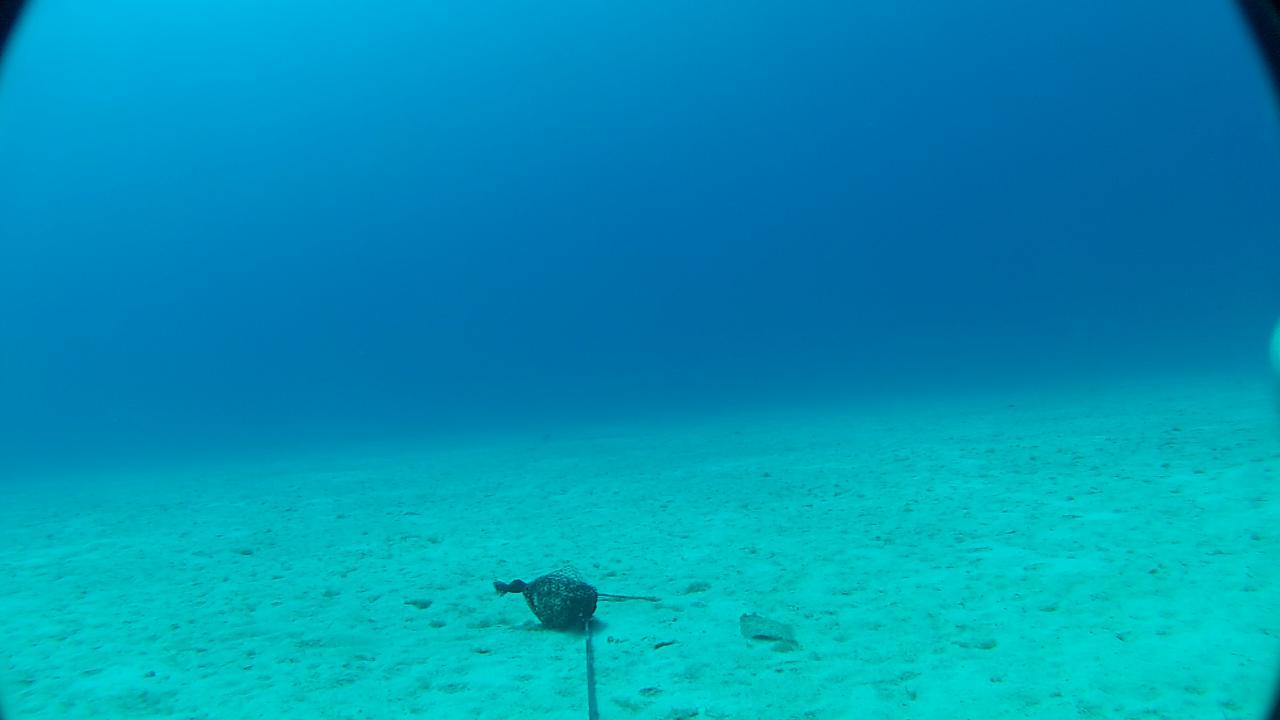bothus: (731, 608, 803, 652)
